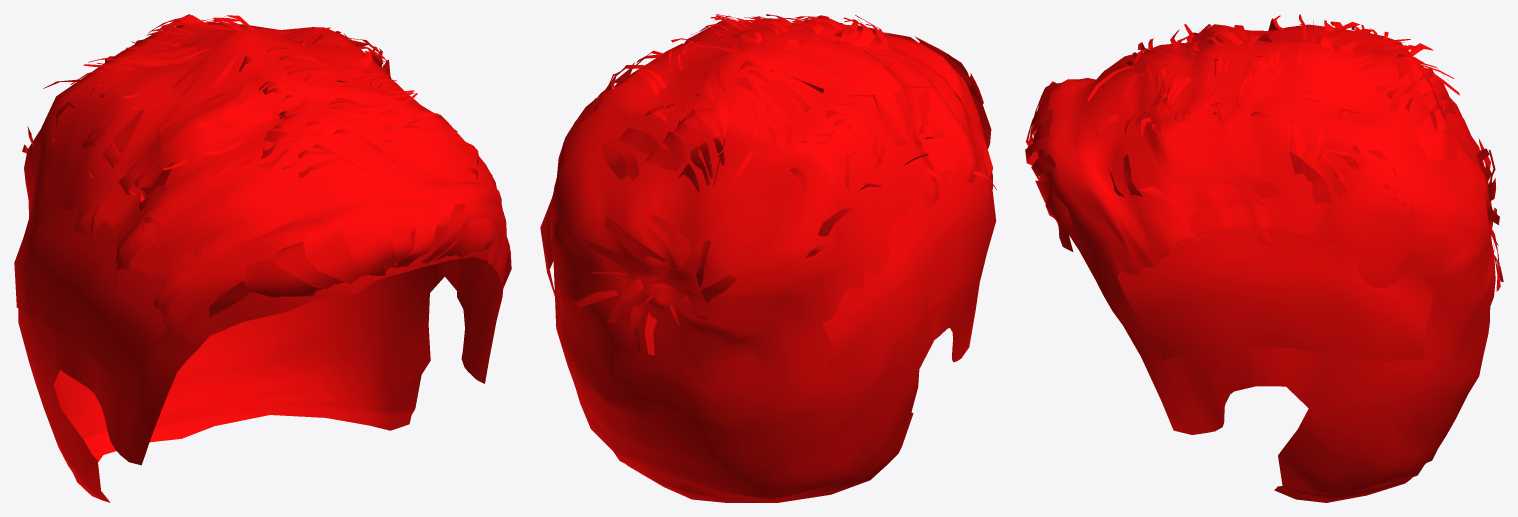
The model's file is short01_F.glb.
3 renders of one model, left to right at view 1: azimuth 30°, elevation 25°; view 2: azimuth 150°, elevation 25°; view 3: azimuth 270°, elevation 25°, orthographic. The views are drawn at different scales.
Size of the model in its own units: 0.1727 by 0.1882 by 0.1961.
1 material, 1 textured.
